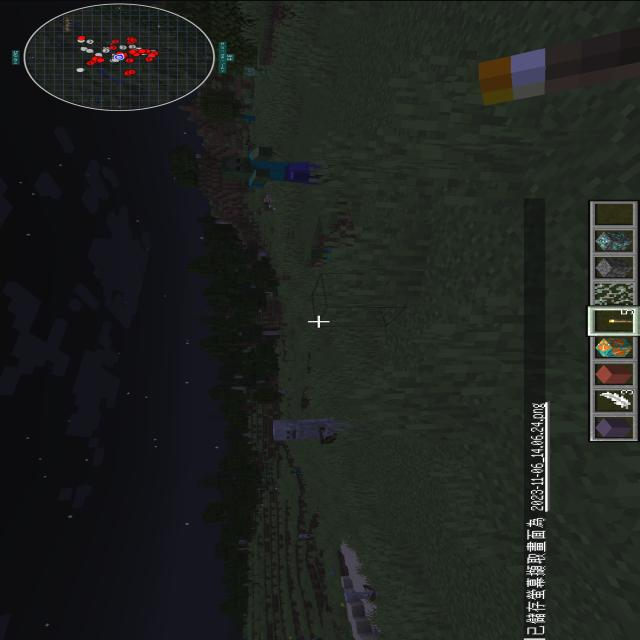Creeper: (242, 65, 280, 78), (282, 356, 306, 364), (242, 95, 260, 103)
Skeleton: (265, 410, 367, 450), (341, 582, 391, 604), (268, 338, 282, 396), (296, 531, 322, 539), (276, 384, 300, 392)
Zombie: (210, 150, 344, 191), (306, 242, 358, 262), (236, 111, 260, 124), (285, 466, 309, 476)
cow: (242, 138, 260, 147)
pig: (260, 186, 280, 201)
